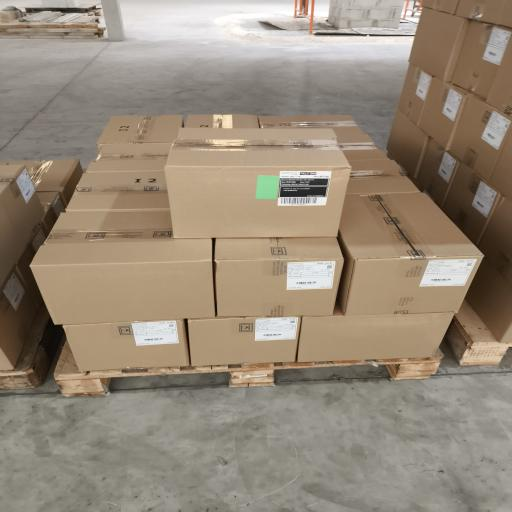pallet: (54, 342, 442, 397), (0, 305, 63, 389), (446, 301, 511, 365), (0, 19, 105, 38), (25, 4, 101, 15)
